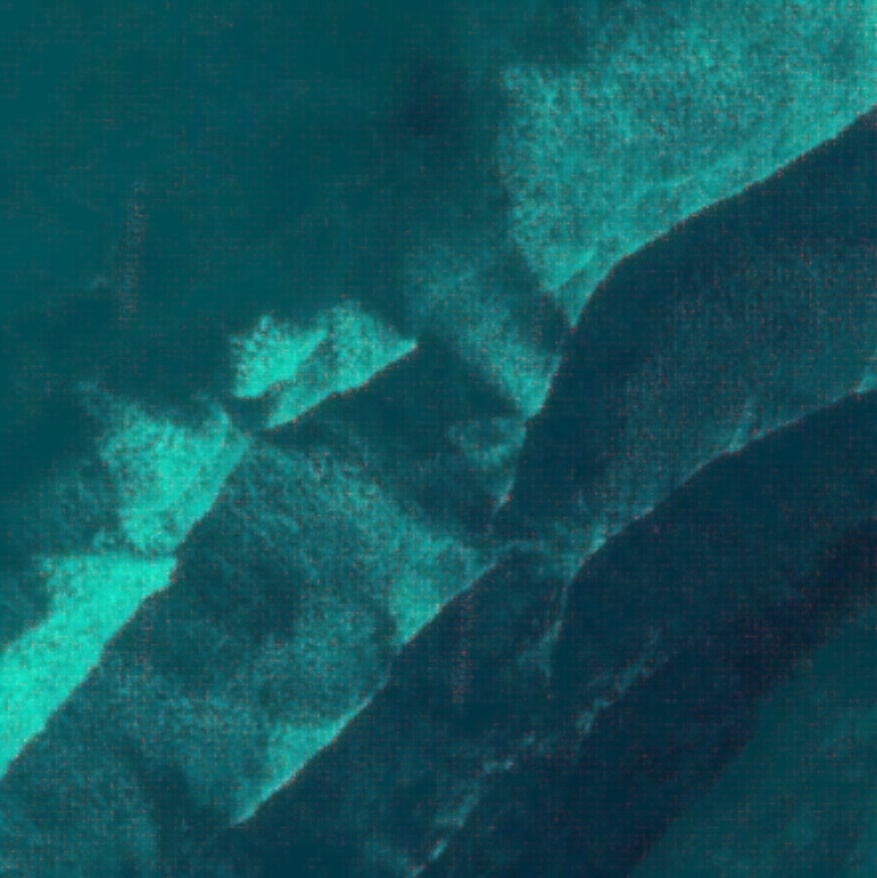rip_current: (210, 253, 536, 537)
